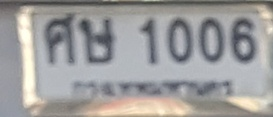txt33: (43, 13, 77, 66)
txt34: (77, 16, 116, 66)
